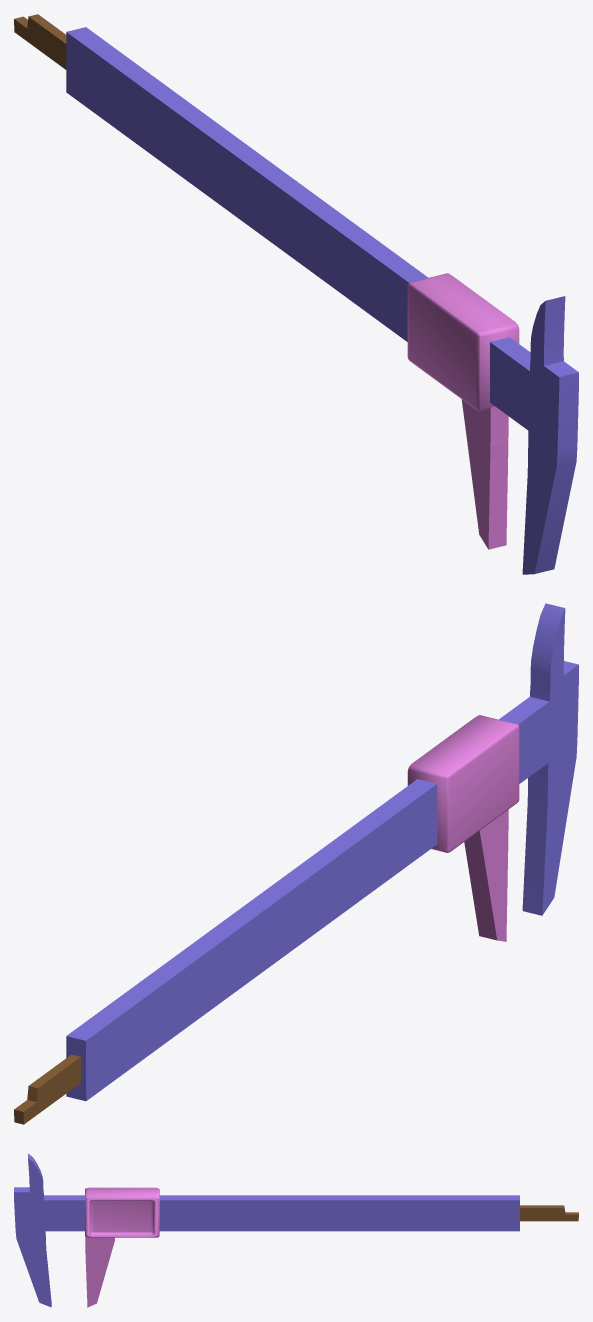
File: schtangenc3.fbx
The picture shows the model from 3 angles, top to bottom: view 1: azimuth 30°, elevation 25°; view 2: azimuth 150°, elevation 25°; view 3: azimuth 270°, elevation 25°; orthographic projection. The views are drawn at different scales.
Visible parts, largest first — view 1: Ruler, Motion_Part, Deepmetr; view 2: Ruler, Motion_Part, Deepmetr; view 3: Ruler, Motion_Part, Deepmetr.
Part boxes in pixels (x1=…): Ruler: x1=66, y1=27, x2=578, y2=574; Motion_Part: x1=407, y1=273, x2=519, y2=549; Deepmetr: x1=14, y1=14, x2=66, y2=69; Ruler: x1=66, y1=603, x2=578, y2=1101; Motion_Part: x1=407, y1=715, x2=519, y2=941; Deepmetr: x1=14, y1=1054, x2=80, y2=1124; Ruler: x1=14, y1=1153, x2=519, y2=1307; Motion_Part: x1=85, y1=1187, x2=159, y2=1307; Deepmetr: x1=520, y1=1205, x2=578, y2=1221.
Bounding box in the file's own units: 20.16 × 135 × 460.
